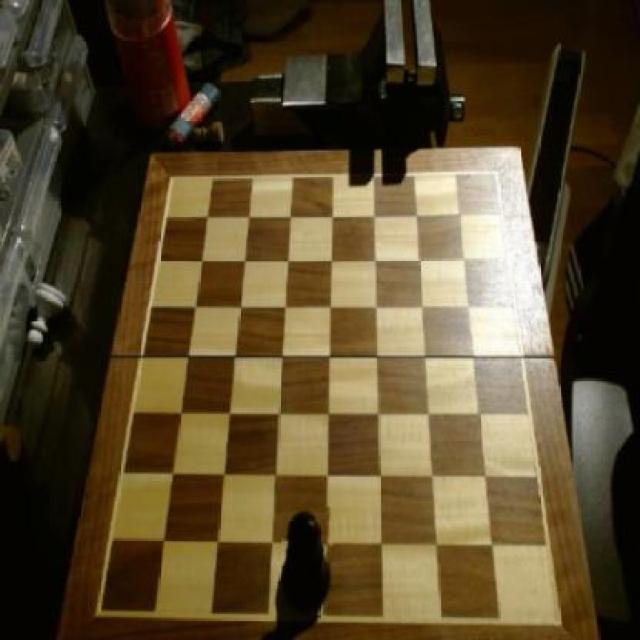black-bishop: (278, 504, 334, 616)
